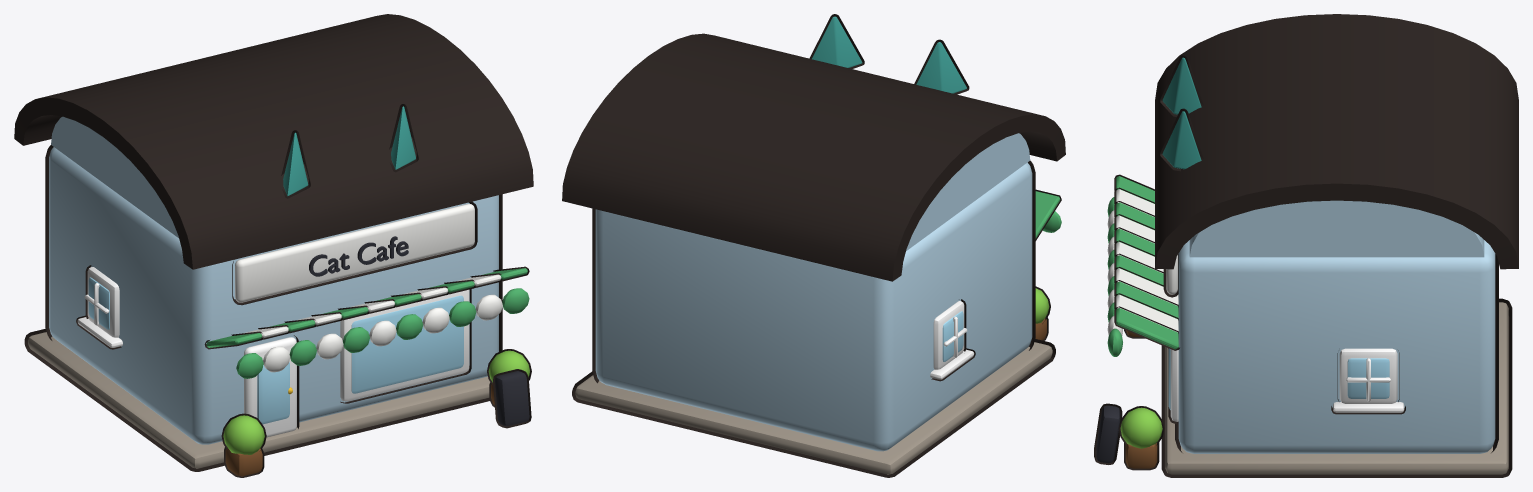
File: Shop_CatCafe.fbx
The picture shows the model from 3 angles, left to right: view 1: azimuth 30°, elevation 25°; view 2: azimuth 150°, elevation 25°; view 3: azimuth 270°, elevation 25°; orthographic projection. The views are drawn at different scales.
Parts seen in each view (by area): view 1: BL_Shop_CatCafe_Outline, BL_Shop_CatCafe_WallBlue, BL_Shop_CatCafe_White, BL_Shop_CatCafe_StoneDark, BL_Shop_CatCafe_Window, BL_Shop_CatCafe_Frame, BL_Shop_CatCafe_AwningGreen, BL_Shop_CatCafe_Black, BL_Shop_CatCafe_Leaf2, BL_Shop_CatCafe_RoofTeal, BL_Shop_CatCafe_WoodDark; view 2: BL_Shop_CatCafe_WallBlue, BL_Shop_CatCafe_Outline, BL_Shop_CatCafe_StoneDark, BL_Shop_CatCafe_RoofTeal, BL_Shop_CatCafe_Frame, BL_Shop_CatCafe_AwningGreen, BL_Shop_CatCafe_Window; view 3: BL_Shop_CatCafe_Outline, BL_Shop_CatCafe_WallBlue, BL_Shop_CatCafe_StoneDark, BL_Shop_CatCafe_AwningGreen, BL_Shop_CatCafe_White, BL_Shop_CatCafe_Frame, BL_Shop_CatCafe_RoofTeal, BL_Shop_CatCafe_Window, BL_Shop_CatCafe_Leaf2, BL_Shop_CatCafe_Black, BL_Shop_CatCafe_WoodDark.
Boxes of the visible parts, x1=… form: BL_Shop_CatCafe_Outline: x1=14, y1=14, x2=533, y2=477; BL_Shop_CatCafe_WallBlue: x1=49, y1=116, x2=498, y2=444; BL_Shop_CatCafe_White: x1=235, y1=204, x2=502, y2=372; BL_Shop_CatCafe_StoneDark: x1=28, y1=332, x2=490, y2=468; BL_Shop_CatCafe_Window: x1=88, y1=277, x2=463, y2=424; BL_Shop_CatCafe_Frame: x1=77, y1=267, x2=469, y2=437; BL_Shop_CatCafe_AwningGreen: x1=206, y1=268, x2=529, y2=378; BL_Shop_CatCafe_Black: x1=309, y1=236, x2=529, y2=426; BL_Shop_CatCafe_Leaf2: x1=223, y1=350, x2=529, y2=454; BL_Shop_CatCafe_RoofTeal: x1=283, y1=106, x2=415, y2=195; BL_Shop_CatCafe_WoodDark: x1=225, y1=383, x2=494, y2=476; BL_Shop_CatCafe_WallBlue: x1=595, y1=133, x2=1032, y2=451; BL_Shop_CatCafe_Outline: x1=562, y1=14, x2=1065, y2=477; BL_Shop_CatCafe_StoneDark: x1=575, y1=342, x2=1052, y2=474; BL_Shop_CatCafe_RoofTeal: x1=812, y1=16, x2=966, y2=93; BL_Shop_CatCafe_Frame: x1=930, y1=301, x2=974, y2=379; BL_Shop_CatCafe_AwningGreen: x1=1035, y1=191, x2=1061, y2=238; BL_Shop_CatCafe_Window: x1=942, y1=311, x2=963, y2=361; BL_Shop_CatCafe_Outline: x1=1094, y1=14, x2=1518, y2=477; BL_Shop_CatCafe_WallBlue: x1=1178, y1=200, x2=1495, y2=453; BL_Shop_CatCafe_StoneDark: x1=1165, y1=302, x2=1508, y2=474; BL_Shop_CatCafe_AwningGreen: x1=1107, y1=176, x2=1178, y2=356; BL_Shop_CatCafe_White: x1=1107, y1=189, x2=1178, y2=335; BL_Shop_CatCafe_Frame: x1=1170, y1=348, x2=1404, y2=421; BL_Shop_CatCafe_RoofTeal: x1=1162, y1=57, x2=1201, y2=169; BL_Shop_CatCafe_Window: x1=1168, y1=348, x2=1389, y2=409; BL_Shop_CatCafe_Leaf2: x1=1120, y1=407, x2=1162, y2=448; BL_Shop_CatCafe_Black: x1=1096, y1=405, x2=1120, y2=463; BL_Shop_CatCafe_WoodDark: x1=1125, y1=330, x2=1157, y2=468.
Size of the model in its own units: 7.6 by 6.62 by 8.04.
